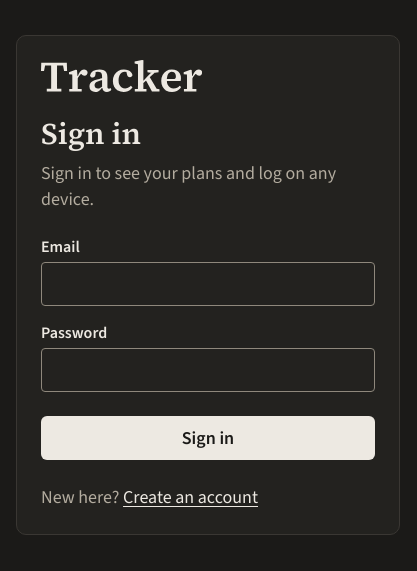
Test: signing in › explains a lock about to end
The width and height of the screenshot is (417, 571).
Type "correct horse battery" into the password field with id "login-password" at (208, 370), box [41, 348, 375, 392]
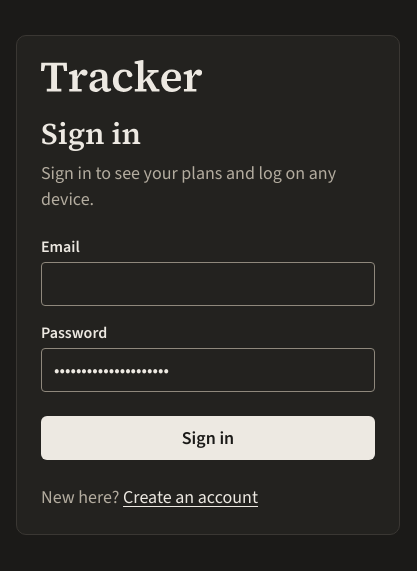
Submit the form, box [41, 236, 375, 460]
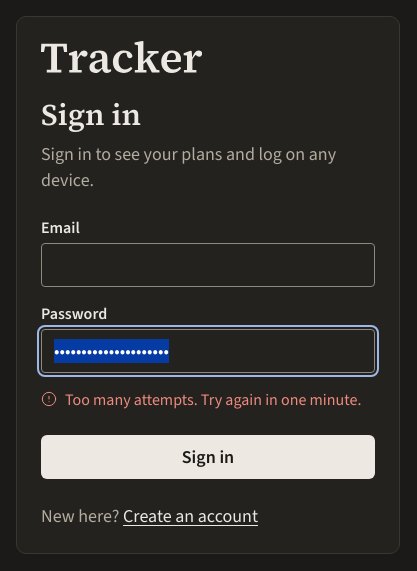
expect the heading "Sign in" is shown: met, box [41, 94, 141, 135]
expect the message with test id "login-problem" reads "Too many attempts. Try again in one minute.": met, box [65, 389, 361, 410]
